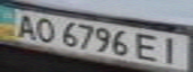6: (54, 19, 81, 48), (112, 28, 133, 57)
7: (75, 21, 96, 51)
9: (90, 25, 112, 54)
A: (9, 11, 42, 38)
E: (133, 32, 163, 62)
I: (157, 35, 187, 65)
O: (30, 16, 60, 43)
